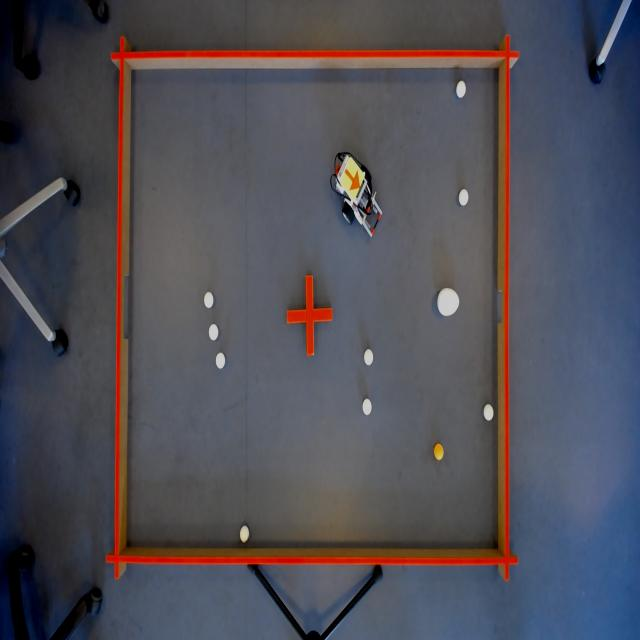cross: (286, 272, 334, 359)
egg: (436, 285, 461, 319)
orange_ball: (433, 441, 445, 463)
robot: (338, 156, 367, 203)
white_ball: (237, 522, 251, 546), (454, 77, 468, 101), (482, 400, 495, 424), (361, 395, 373, 420), (362, 346, 375, 368), (458, 187, 470, 210), (203, 288, 215, 311), (214, 350, 227, 371), (208, 322, 220, 344)
